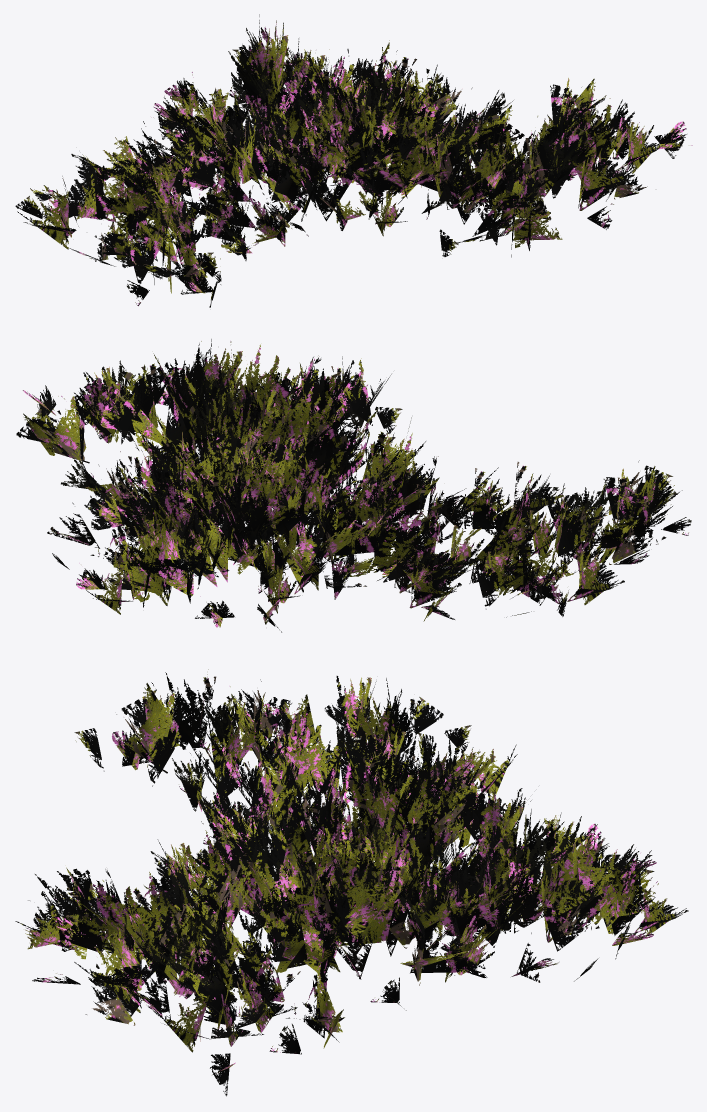
Rendered from heather_clump_02_LOD2.fbx.
3 views of the same model, one above another, from view 1: azimuth 30°, elevation 25°; view 2: azimuth 150°, elevation 25°; view 3: azimuth 270°, elevation 25° (orthographic). The views are drawn at different scales.
Parts seen in each view (by area): view 1: heather_clump_02_LOD2; view 2: heather_clump_02_LOD2; view 3: heather_clump_02_LOD2.
Boxes of the visible parts, x1,y1,x2,y2 form: heather_clump_02_LOD2: (15, 14, 692, 307); heather_clump_02_LOD2: (16, 339, 691, 632); heather_clump_02_LOD2: (15, 669, 688, 1096).
Size of the model in its own units: 1380 by 226 by 1063.
